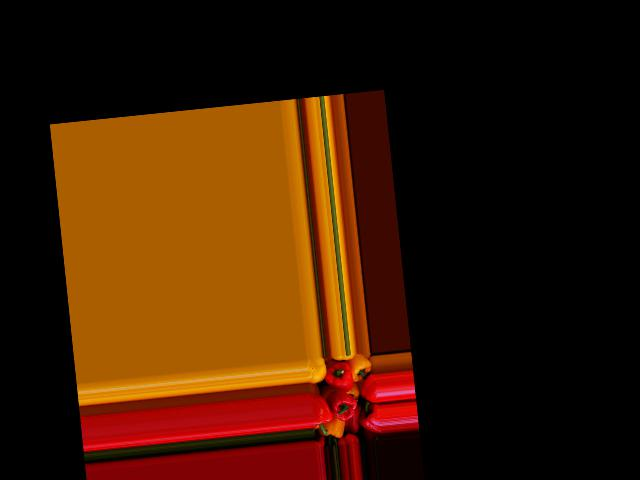bell_pepper: (346, 353, 370, 380)
